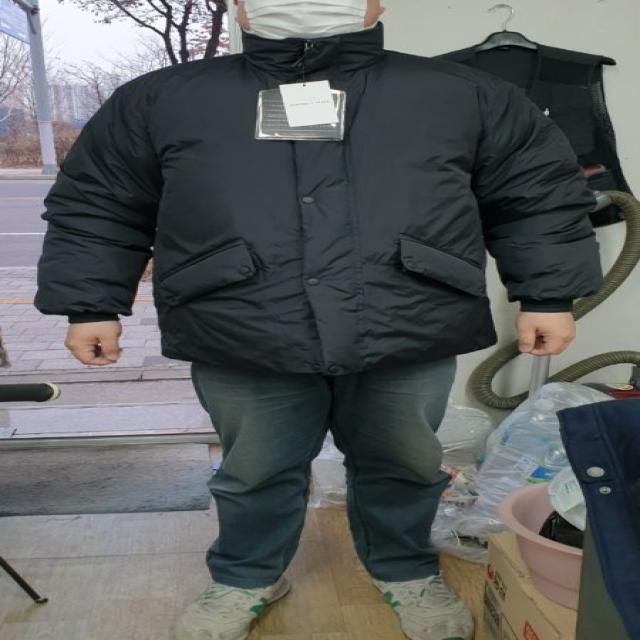denimpants: (196, 360, 452, 590)
padding: (36, 22, 604, 376)
